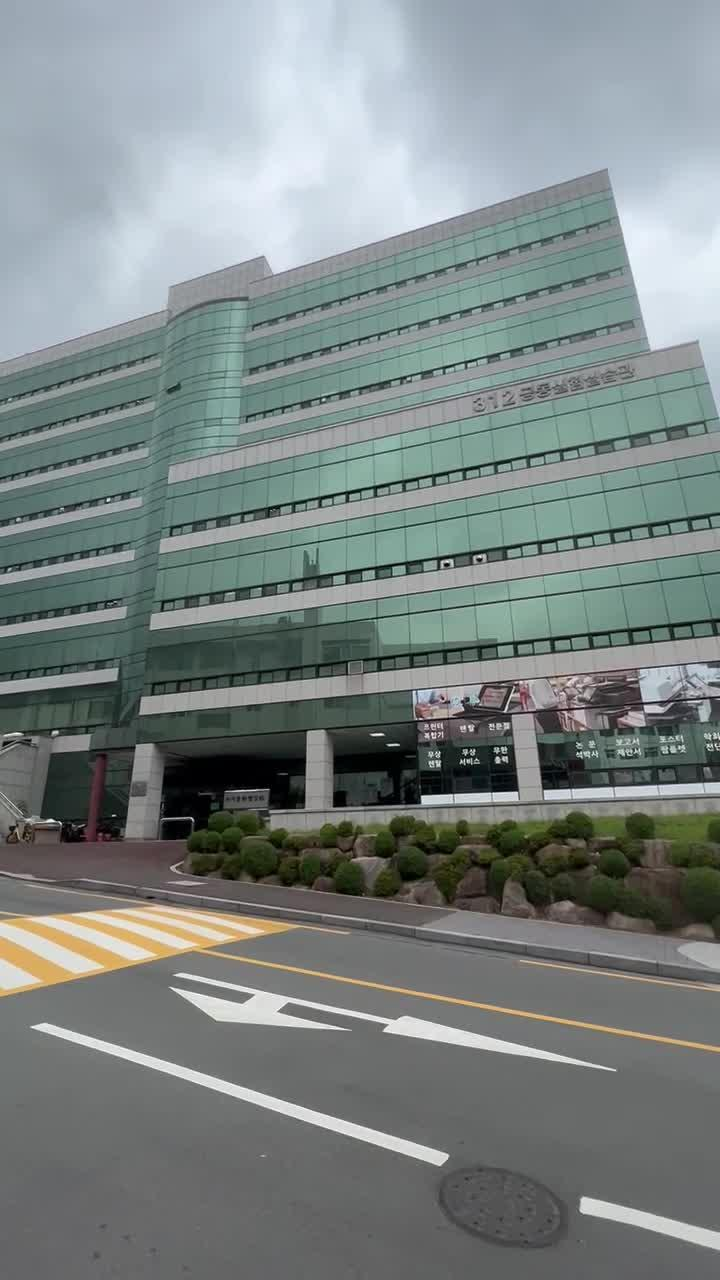building: (68, 232, 686, 668)
